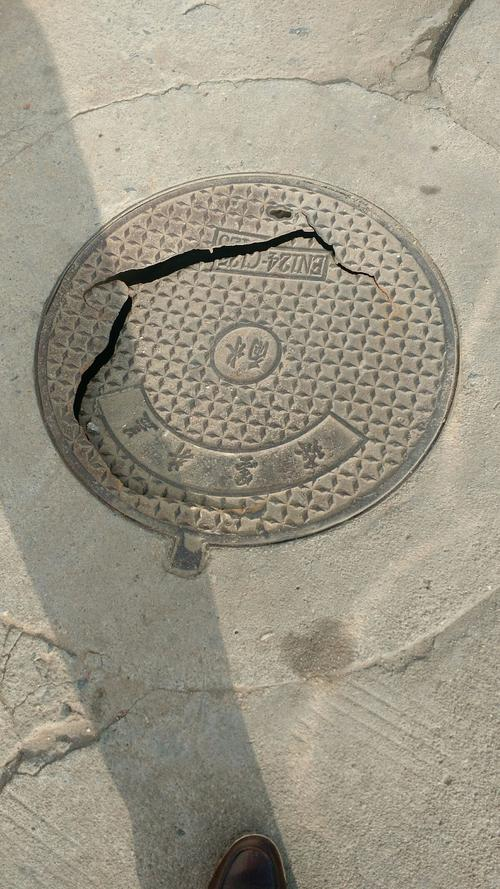broke: (14, 115, 494, 645)
